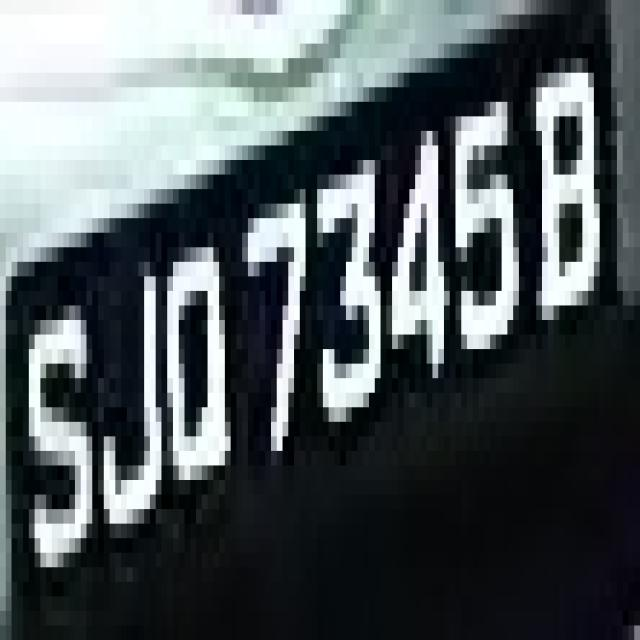3: (294, 131, 386, 465)
4: (363, 116, 456, 422)
5: (426, 72, 530, 364)
7: (219, 175, 311, 538)
B: (513, 44, 617, 422)
J: (92, 248, 179, 596)
Q: (132, 189, 236, 553)
S: (11, 233, 104, 596)
